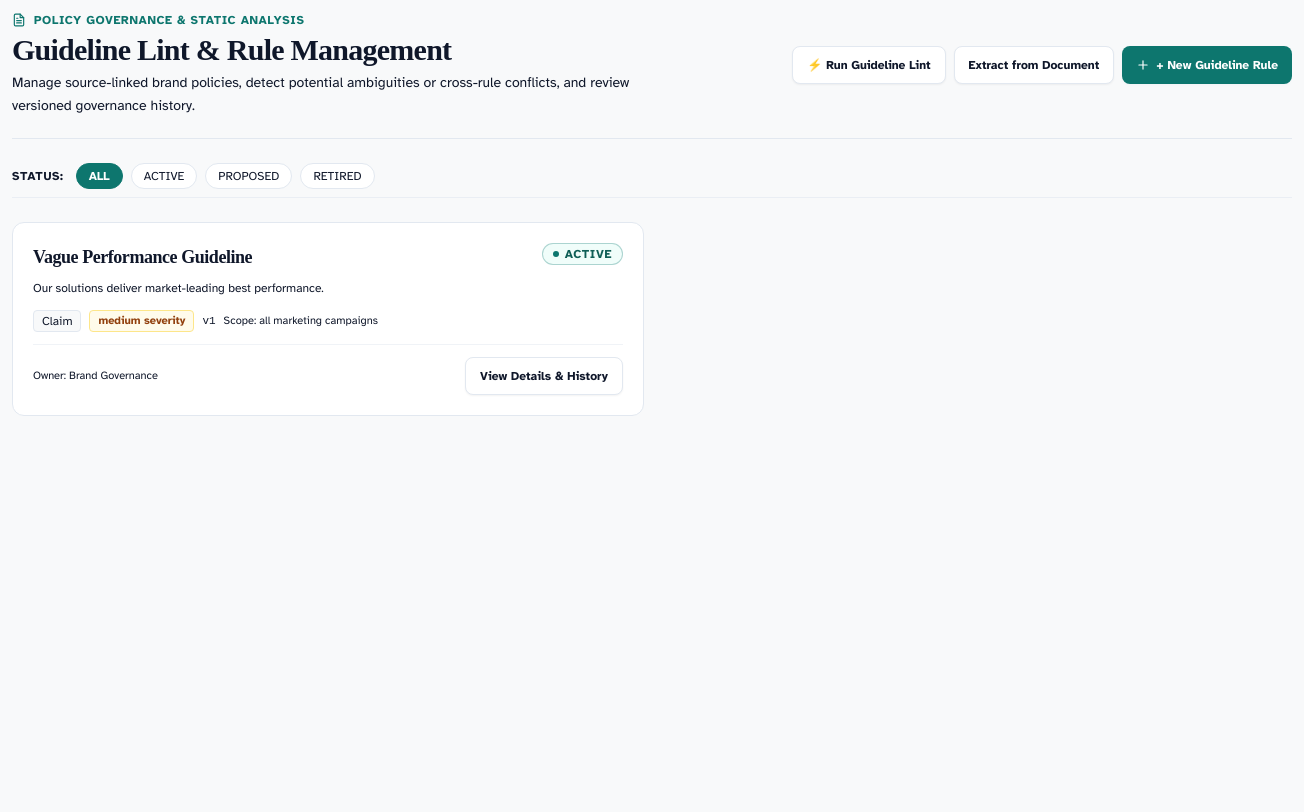
it: Phase 5 Frontend Components › P5-21b: Running guideline lint identifies candidate issues
Expected: the heading "Vague Performance Guideline" is shown, 33,242 -> 252,270
Click the button "⚡ Run Guideline Lint".
click(869, 65)  # box 792,46 -> 946,84
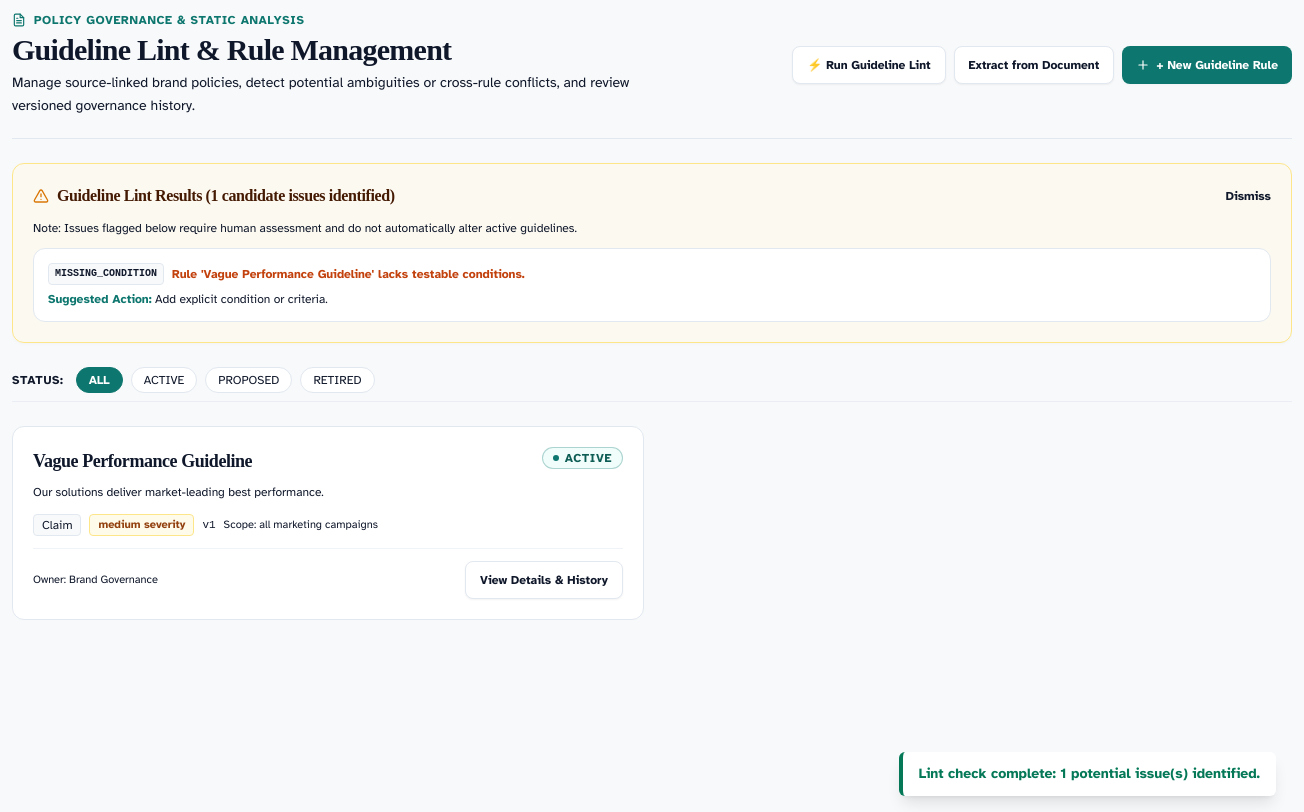
Expected: the heading "Guideline Lint Results (1 candidate issues identified)" is shown, 33,184 -> 395,208
